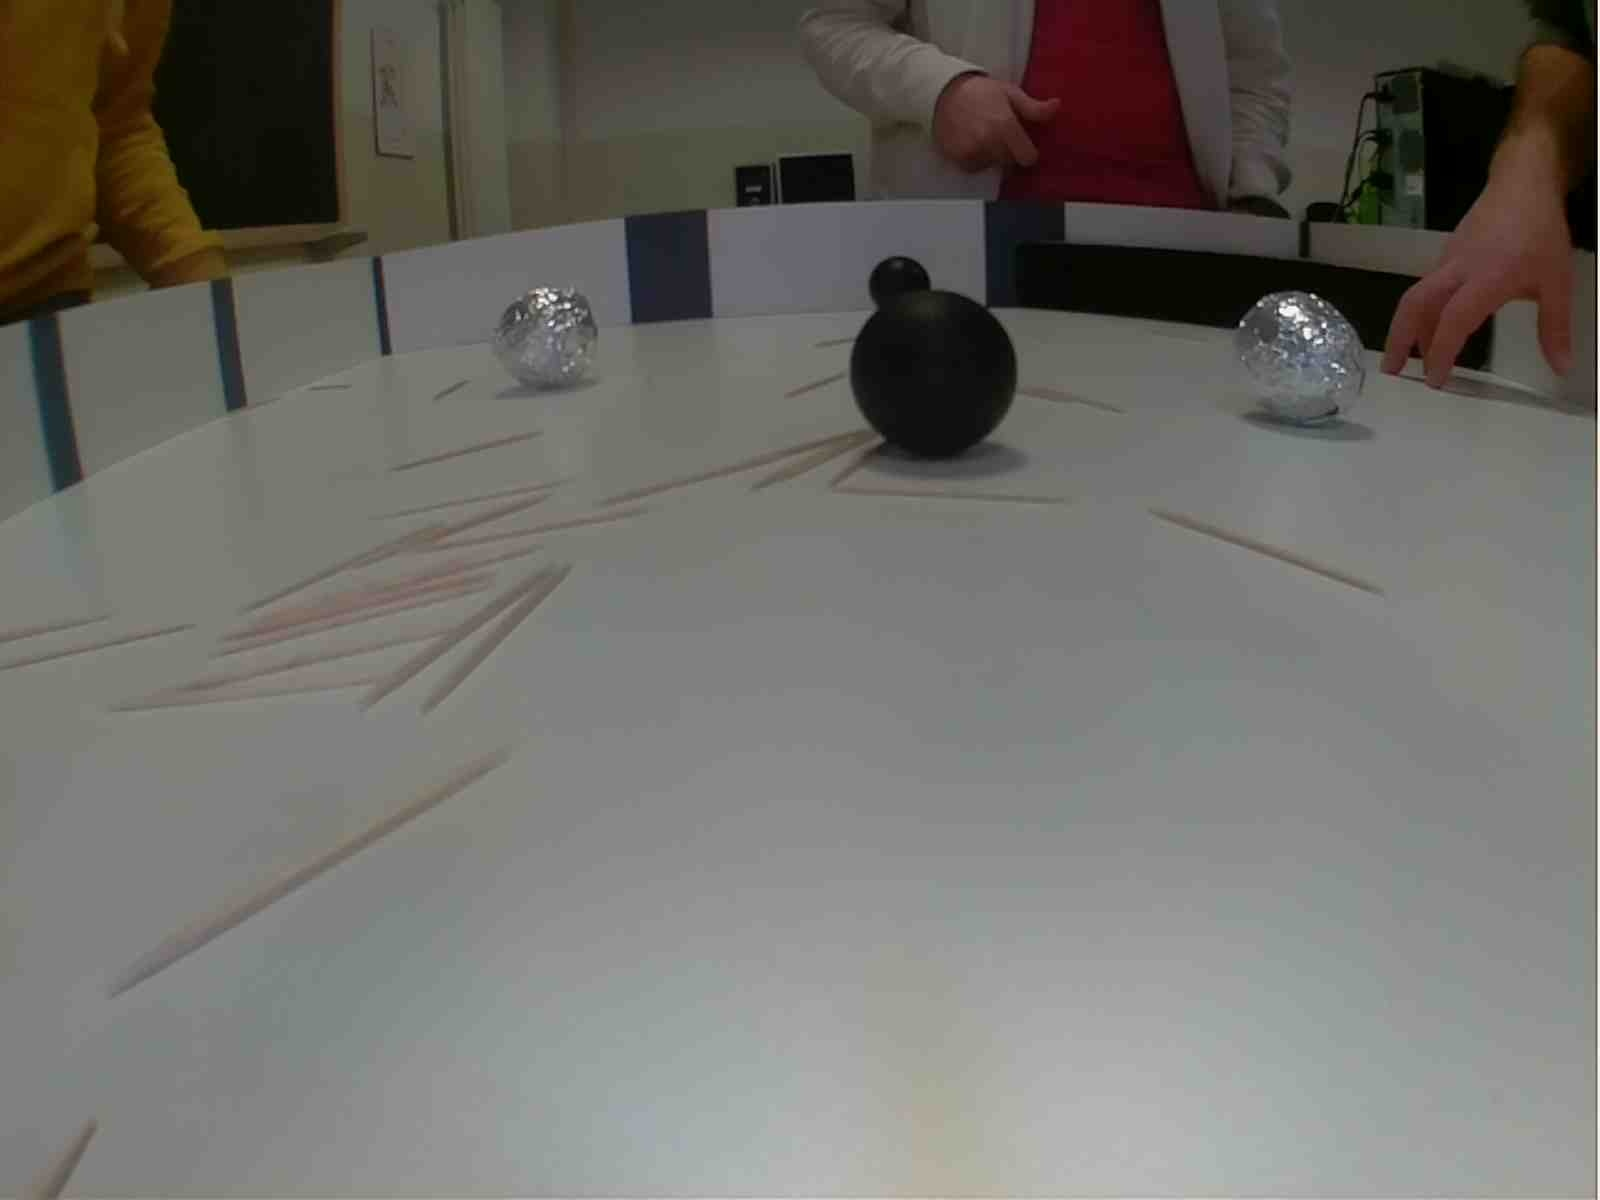bianca: (1225, 287, 1366, 429), (491, 286, 598, 395)
nera: (842, 287, 1015, 463), (866, 256, 929, 318)
